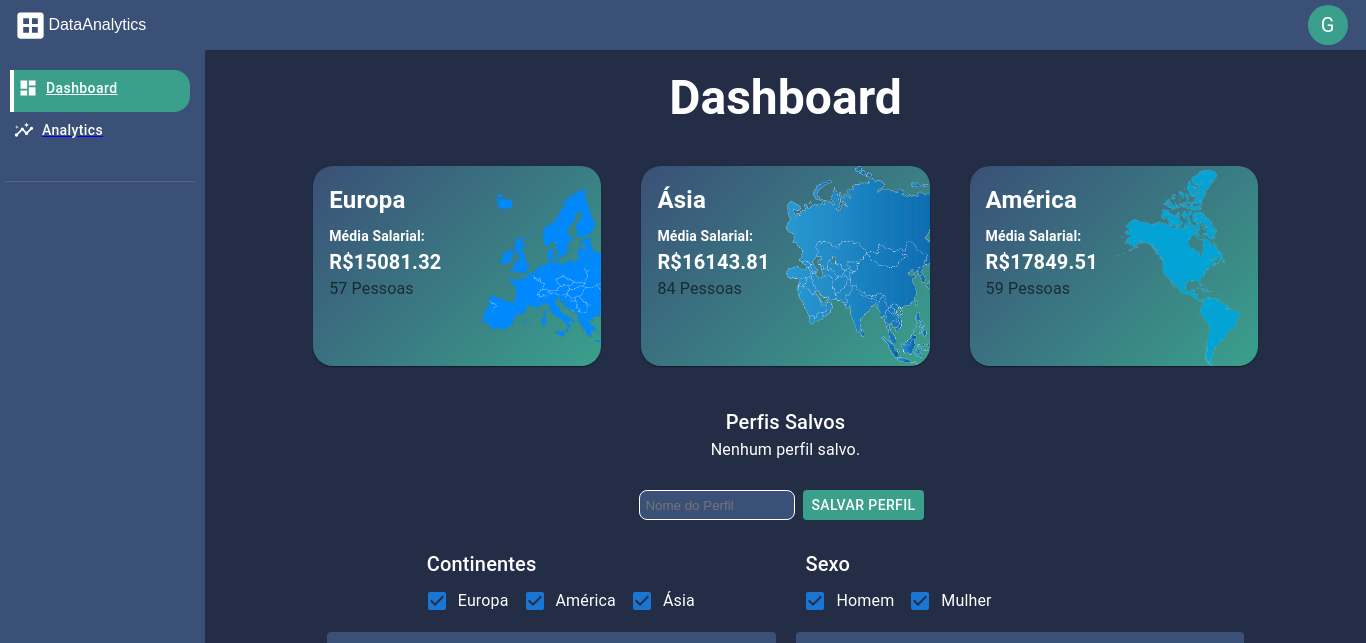
it: DashboardContent Tests › Saves profile and checks profiles list
Type "Profile 1" into the field with placeholder "Nome do Perfil".
click(718, 505); type("Profile 1")  # box [640, 490, 796, 520]
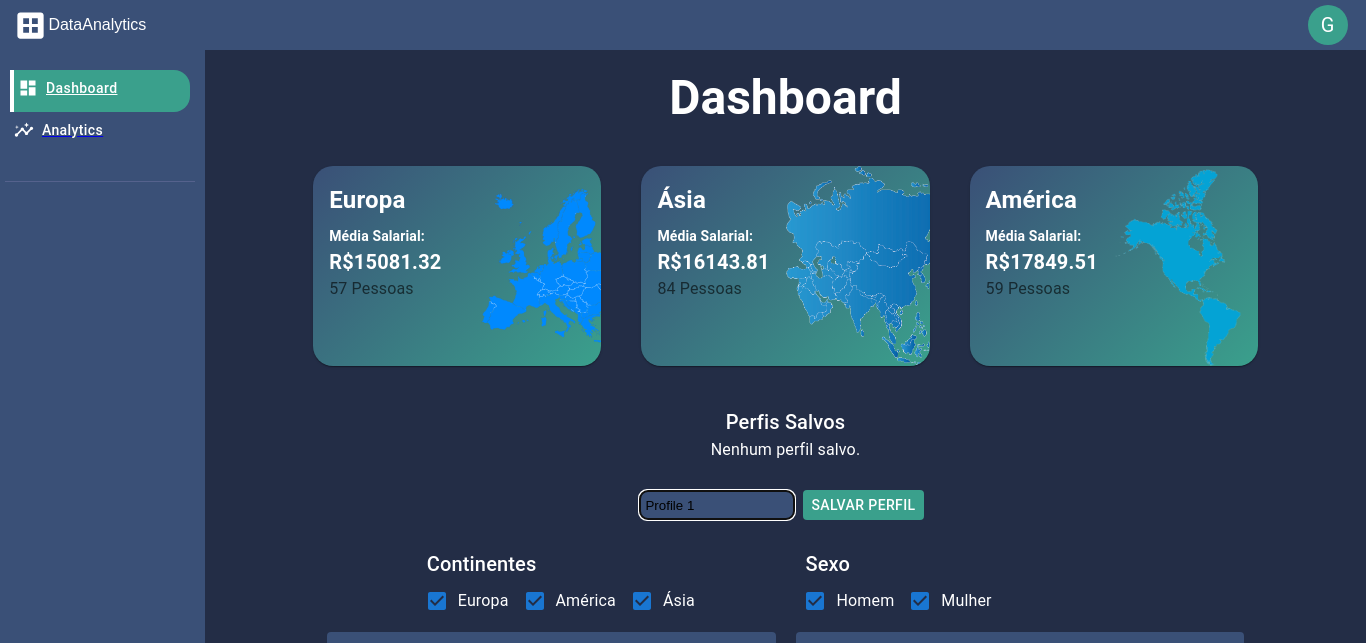
Click the button "Salvar Perfil".
click(864, 505)  # box [804, 490, 924, 520]
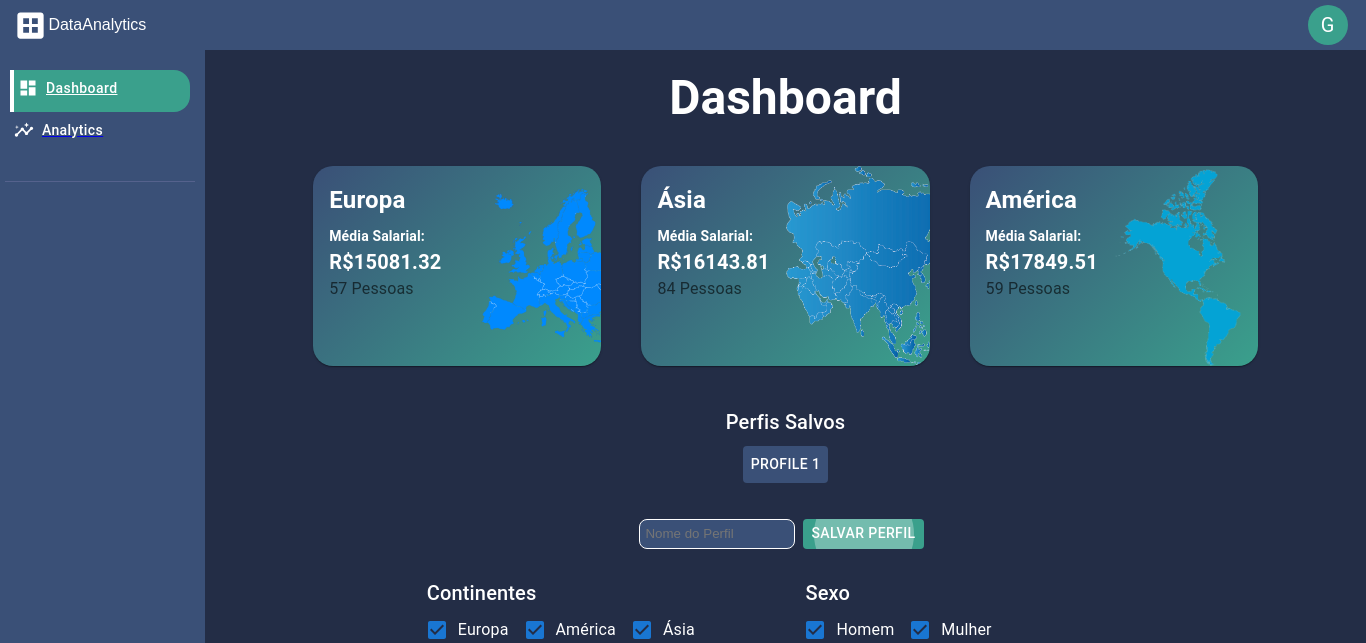
Expected: the button "Profile 1" is shown, [743, 446, 828, 482]
